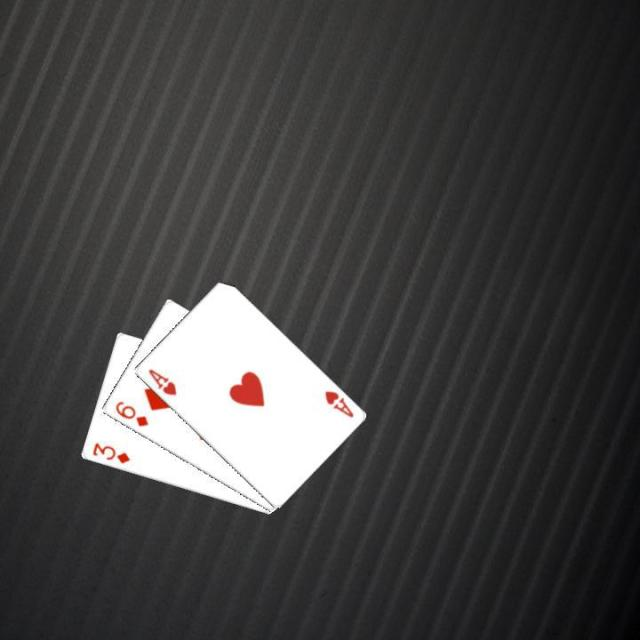3D: (88, 439, 132, 466)
6D: (111, 398, 149, 428)
AH: (144, 364, 178, 398), (320, 386, 355, 419)
